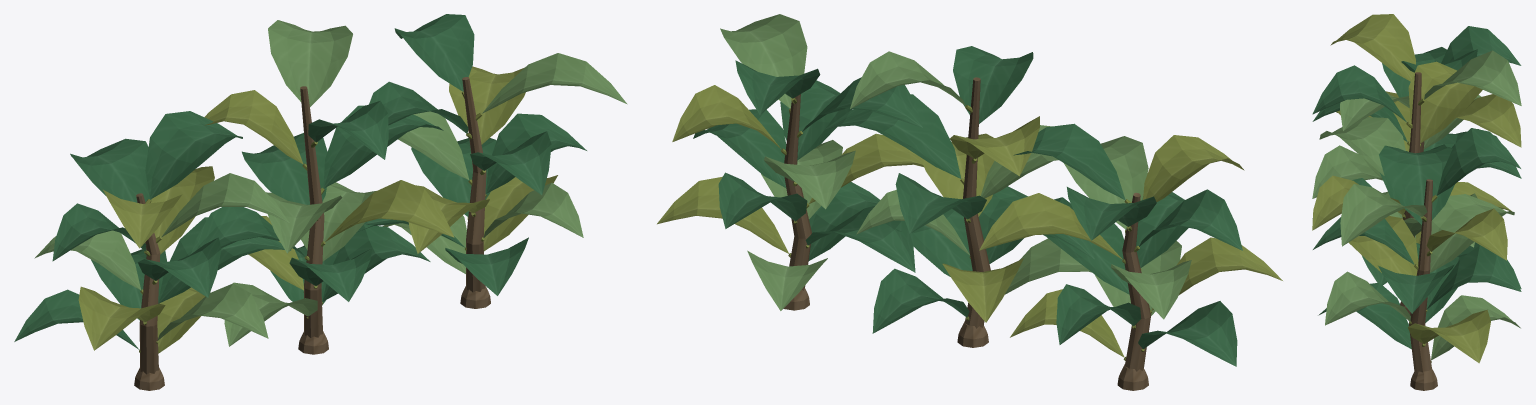
Rendered from AST-BOT-002_pool_middle_03.glb.
3 renders of one model, left to right at view 1: azimuth 30°, elevation 25°; view 2: azimuth 150°, elevation 25°; view 3: azimuth 270°, elevation 25°, orthographic. The views are drawn at different scales.
Visible parts, largest first — view 1: RT_AST-BOT-002_pool_middle_03__leaf_jade, RT_AST-BOT-002_pool_middle_03__leaf_sage, RT_AST-BOT-002_pool_middle_03__leaf_olive, RT_AST-BOT-002_pool_middle_03__bark; view 2: RT_AST-BOT-002_pool_middle_03__leaf_jade, RT_AST-BOT-002_pool_middle_03__leaf_olive, RT_AST-BOT-002_pool_middle_03__leaf_sage, RT_AST-BOT-002_pool_middle_03__bark; view 3: RT_AST-BOT-002_pool_middle_03__leaf_jade, RT_AST-BOT-002_pool_middle_03__leaf_olive, RT_AST-BOT-002_pool_middle_03__leaf_sage, RT_AST-BOT-002_pool_middle_03__bark.
Part boxes in pixels (x1,y1,x2,y2): RT_AST-BOT-002_pool_middle_03__leaf_jade: [14, 14, 586, 349]; RT_AST-BOT-002_pool_middle_03__leaf_sage: [34, 20, 627, 346]; RT_AST-BOT-002_pool_middle_03__leaf_olive: [78, 66, 557, 353]; RT_AST-BOT-002_pool_middle_03__bark: [134, 77, 490, 390]; RT_AST-BOT-002_pool_middle_03__leaf_jade: [693, 46, 1242, 366]; RT_AST-BOT-002_pool_middle_03__leaf_olive: [657, 85, 1282, 360]; RT_AST-BOT-002_pool_middle_03__leaf_sage: [720, 14, 1191, 319]; RT_AST-BOT-002_pool_middle_03__bark: [783, 77, 1151, 390]; RT_AST-BOT-002_pool_middle_03__leaf_jade: [1312, 26, 1521, 348]; RT_AST-BOT-002_pool_middle_03__leaf_olive: [1312, 14, 1521, 363]; RT_AST-BOT-002_pool_middle_03__leaf_sage: [1312, 50, 1521, 360]; RT_AST-BOT-002_pool_middle_03__bark: [1400, 72, 1437, 390].
Bounding box in the file's own units: 2.04 × 1.01 × 0.74.
Materials: 4 (4 with a texture image).
